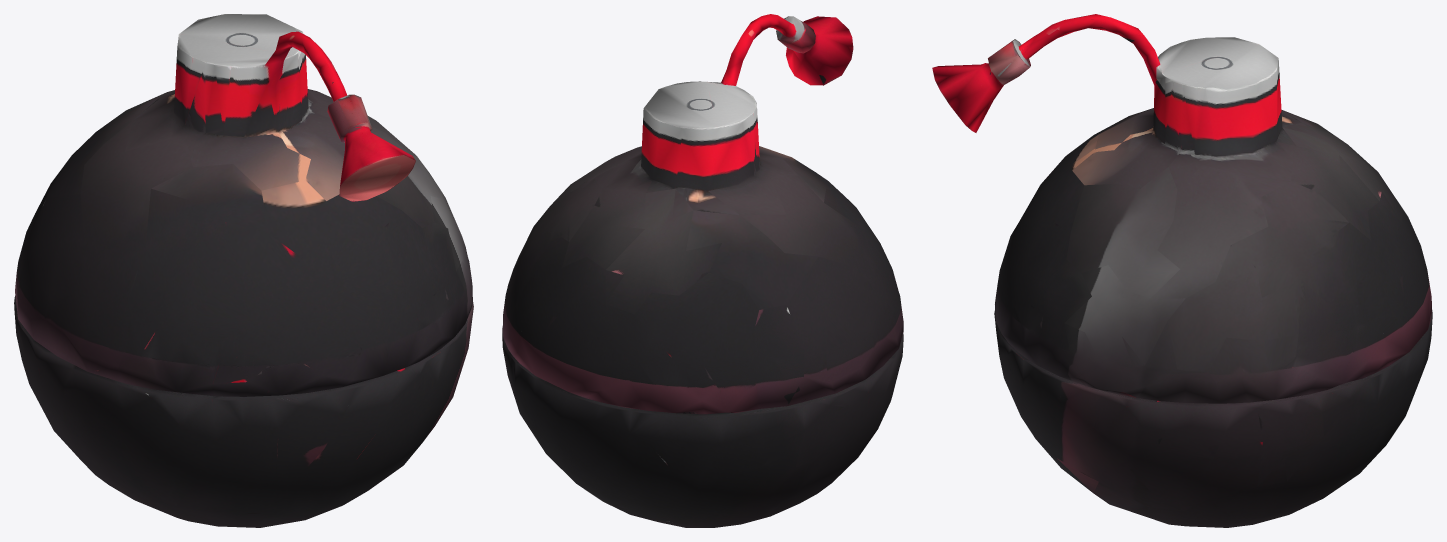
File: bad.obj
3 renders of one model, left to right at view 1: azimuth 30°, elevation 25°; view 2: azimuth 150°, elevation 25°; view 3: azimuth 270°, elevation 25°, orthographic. The views are drawn at different scales.
Bounding box in the file's own units: 0.8136 × 1 × 0.9242.
Materials: 1 (1 with a texture image).
